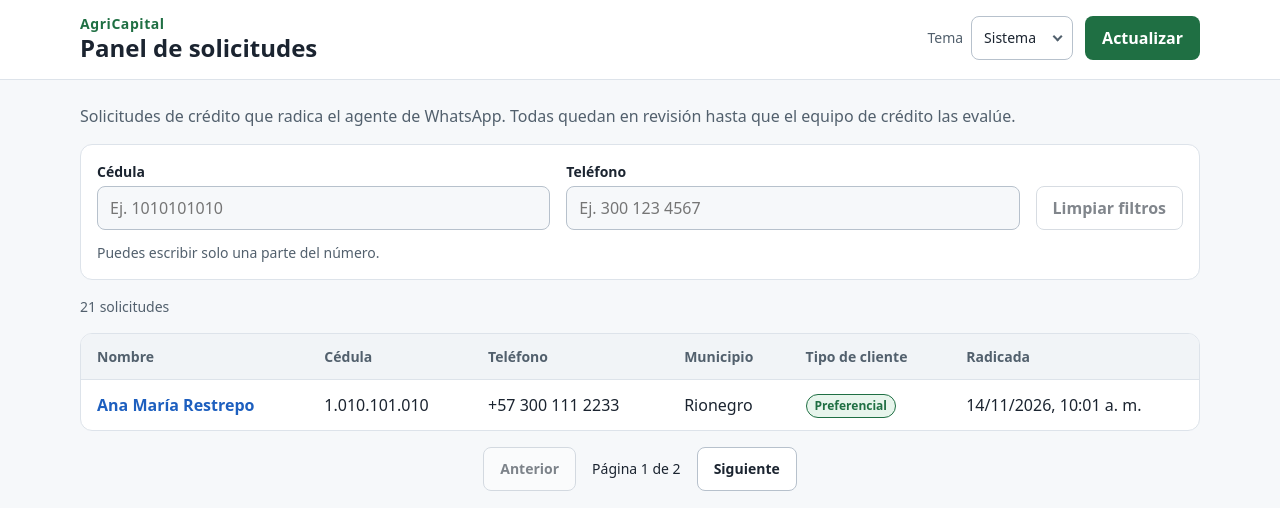
Scenario: Panel de solicitudes › pagina hacia adelante y atrás
Expected: the text "Página 1 de 2" is shown, [592,458,681,479]
Expected: the button "Anterior" is disabled, [483,447,576,491]
Click the button "Siguiente": {"x": 747, "y": 469} [697,447,797,491]
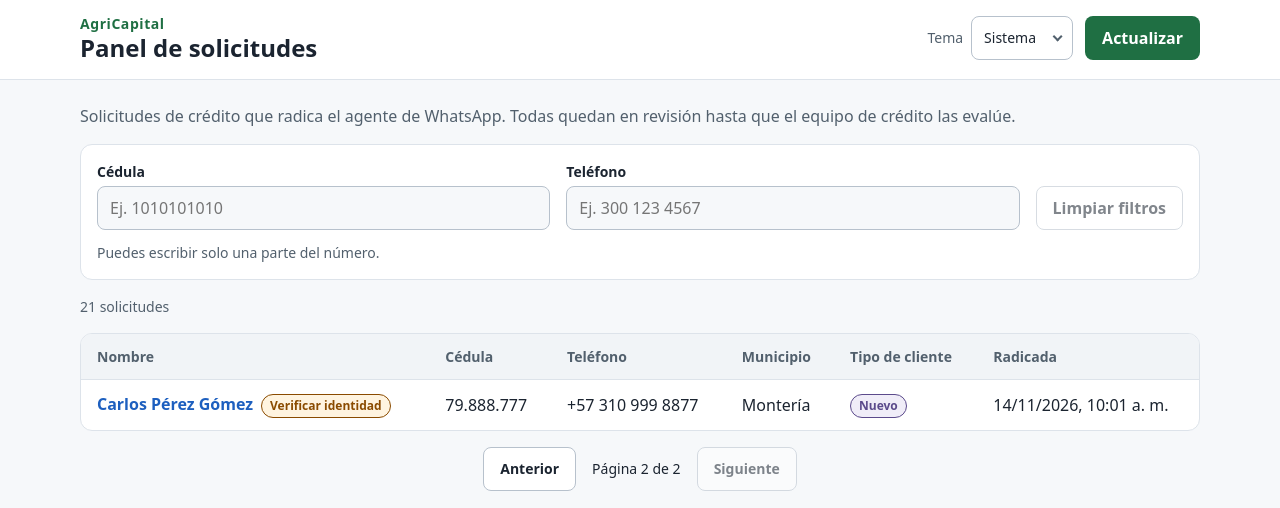
Expected: the button "Carlos Pérez Gómez" is shown, [97,392,253,416]
Expected: the text "Página 2 de 2" is shown, [592,458,681,479]
